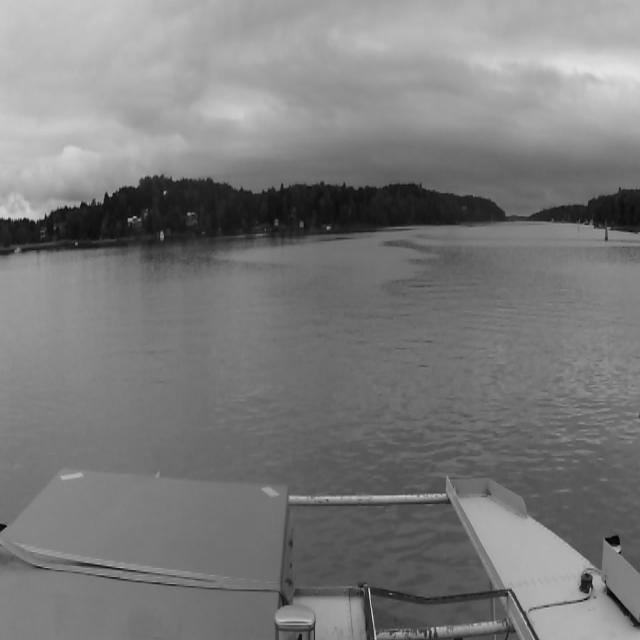buoy: (604, 220, 608, 241)
